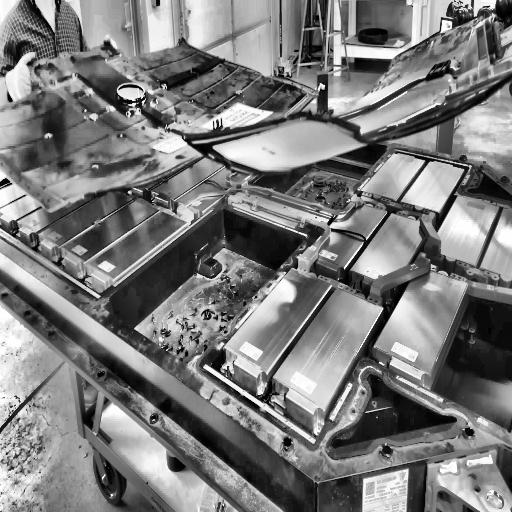battery_module: (273, 287, 382, 410), (224, 268, 330, 373), (374, 267, 467, 375), (350, 213, 432, 290), (304, 200, 388, 273), (430, 196, 500, 267), (401, 160, 463, 213), (359, 151, 423, 201), (481, 207, 512, 277)
busbar: (172, 169, 512, 308)
